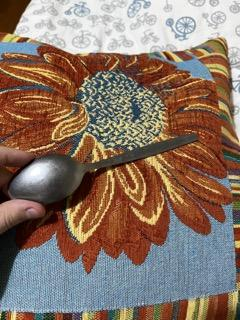spoon: (5, 130, 201, 210)
